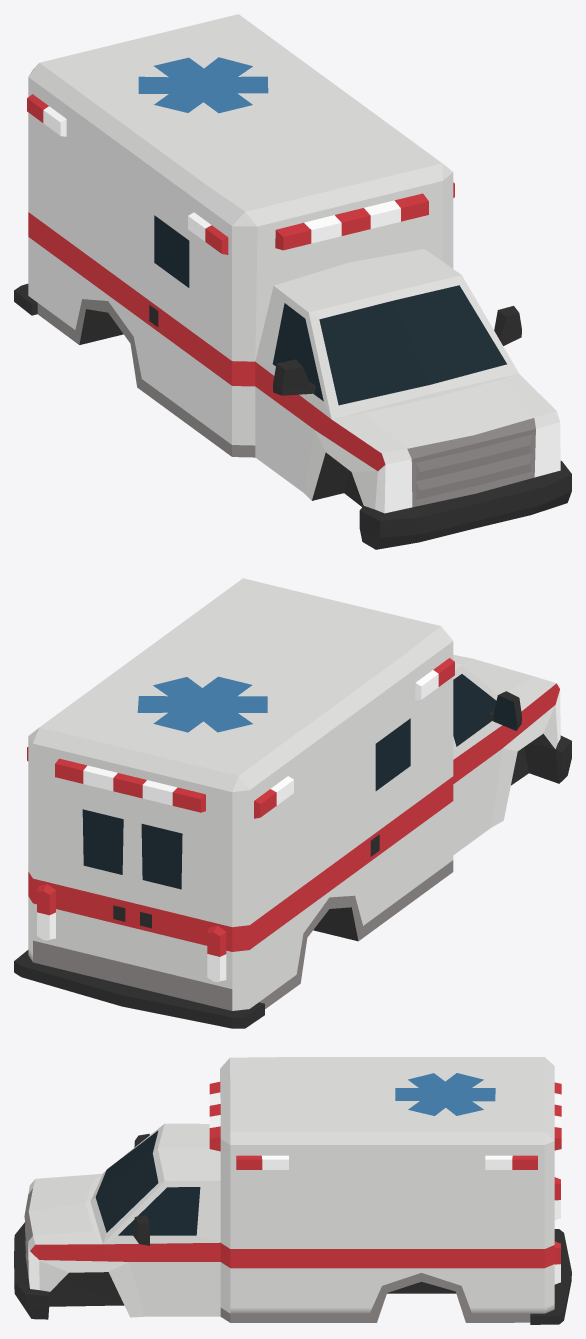
The model's file is car-ambulance-pickup-base.glb.
The picture shows the model from 3 angles, top to bottom: view 1: azimuth 30°, elevation 25°; view 2: azimuth 150°, elevation 25°; view 3: azimuth 270°, elevation 25°; orthographic projection. The views are drawn at different scales.
Parts seen in each view (by area): view 1: car-ambulance-pickup-base; view 2: car-ambulance-pickup-base; view 3: car-ambulance-pickup-base.
Part boxes in pixels (left/top/right/bottom): car-ambulance-pickup-base: left=14, top=14, right=571, bottom=549; car-ambulance-pickup-base: left=14, top=578, right=571, bottom=1028; car-ambulance-pickup-base: left=14, top=1057, right=571, bottom=1324.
Bounding box in the file's own units: 2.43 × 2.33 × 6.24.
1 material, 1 textured.
